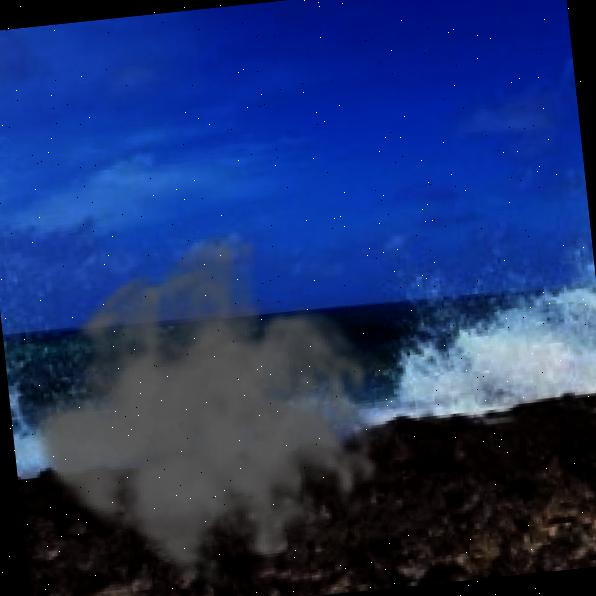smoke: (7, 212, 413, 596)
